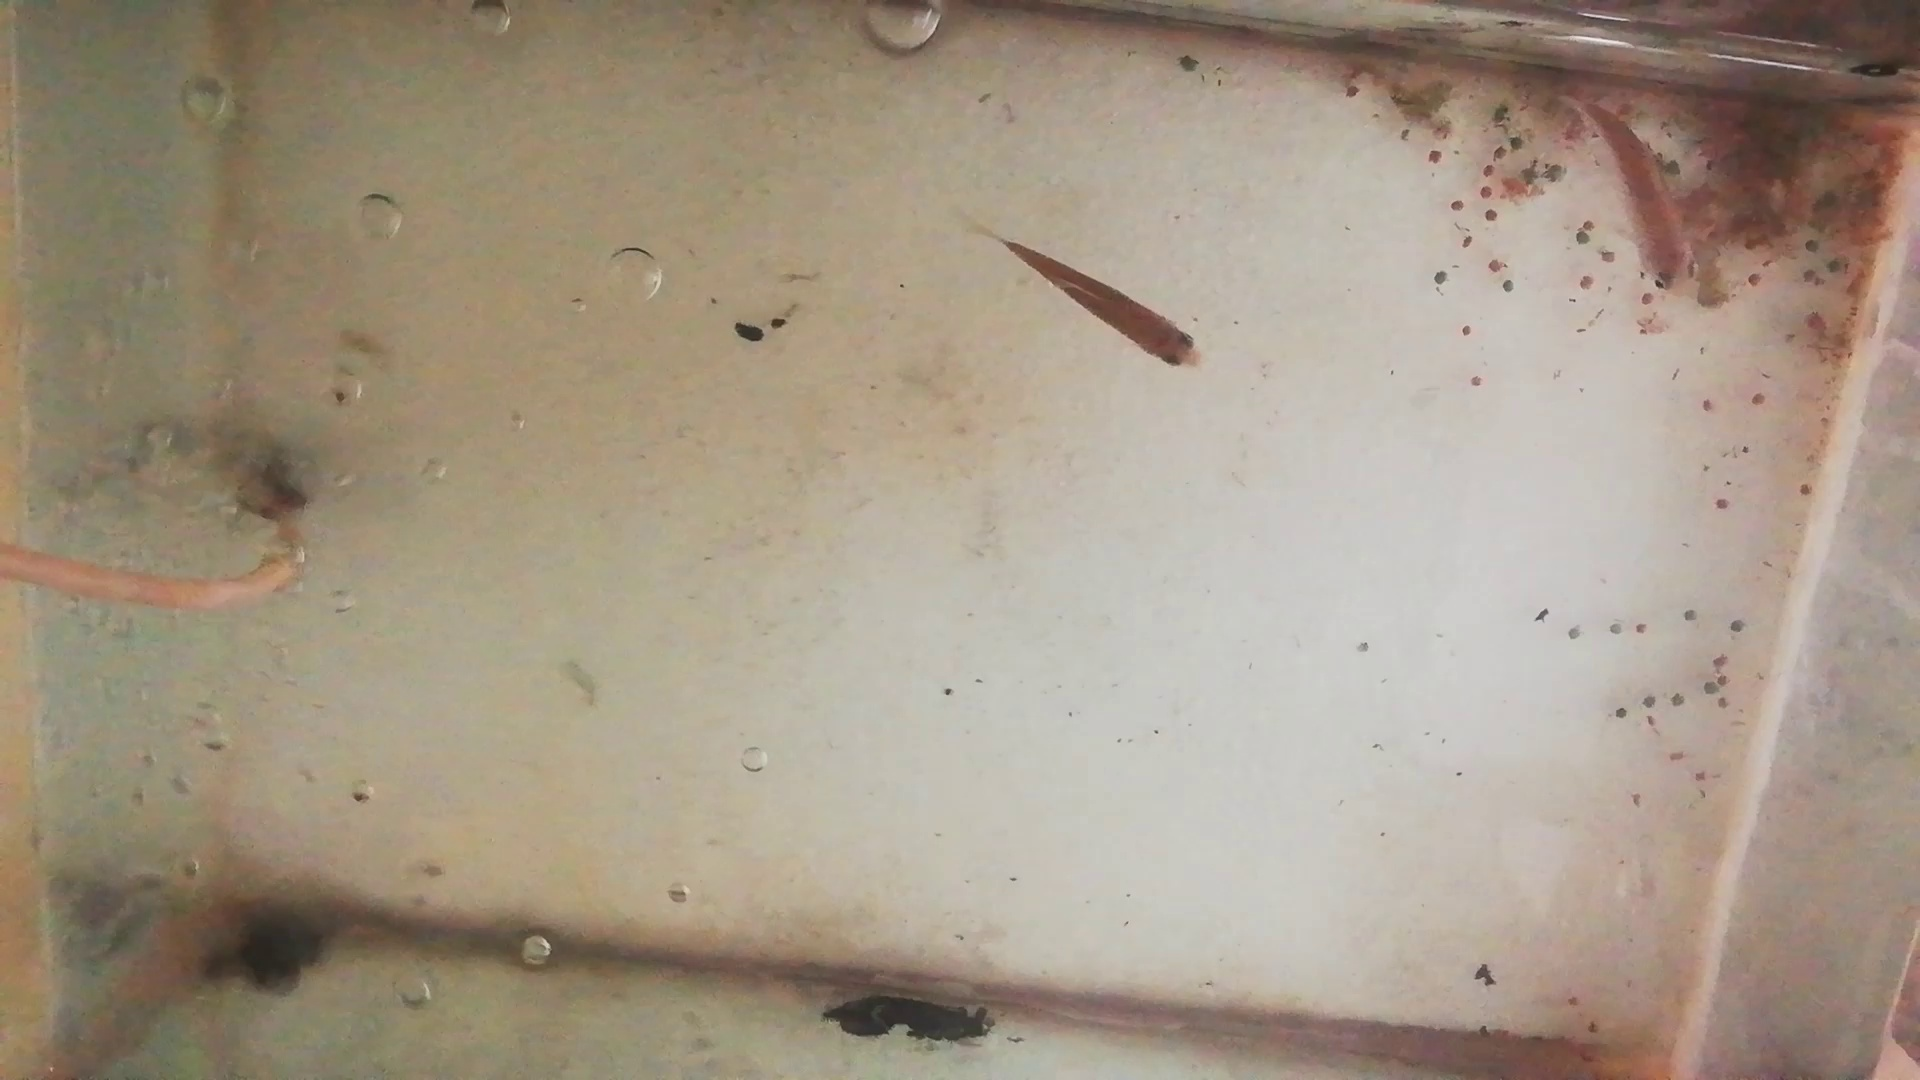fish: (1563, 94, 1702, 303), (1004, 243, 1204, 377)
